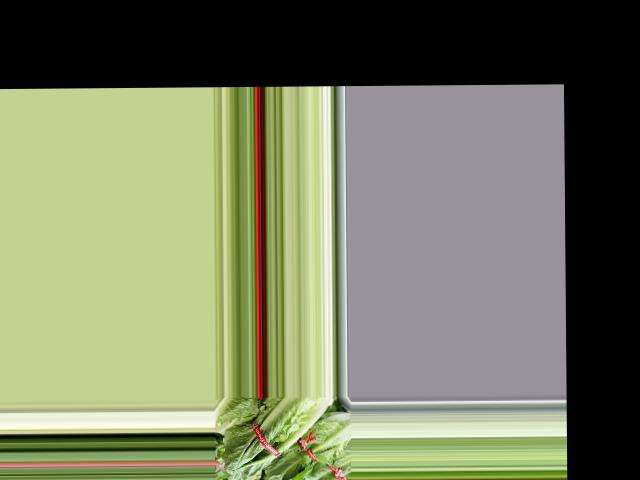lettuce: (220, 395, 332, 480)
